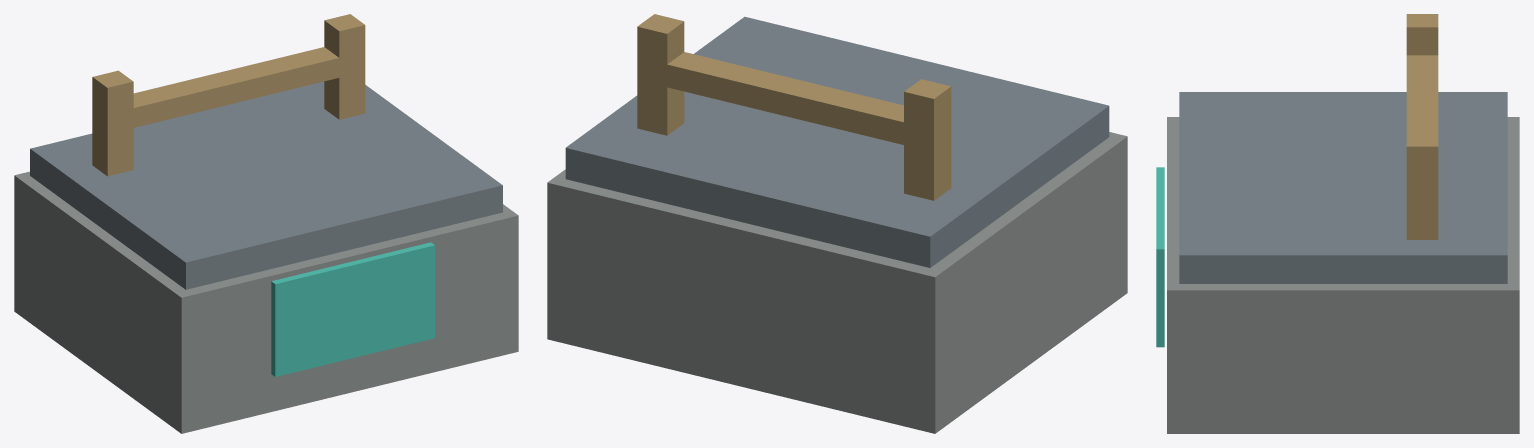
File: building-workshop.glb
3 renders of one model, left to right at view 1: azimuth 30°, elevation 25°; view 2: azimuth 150°, elevation 25°; view 3: azimuth 270°, elevation 25°, orthographic. The views are drawn at different scales.
Visible parts, largest first — view 1: Body; view 2: Body; view 3: Body.
Boxes of the visible parts, x1,y1,x2,y2 form: Body: (14,14,518,433); Body: (547,14,1127,433); Body: (1156,14,1519,433).
Bounding box in the file's own units: 2.85 × 2.05 × 2.52.
